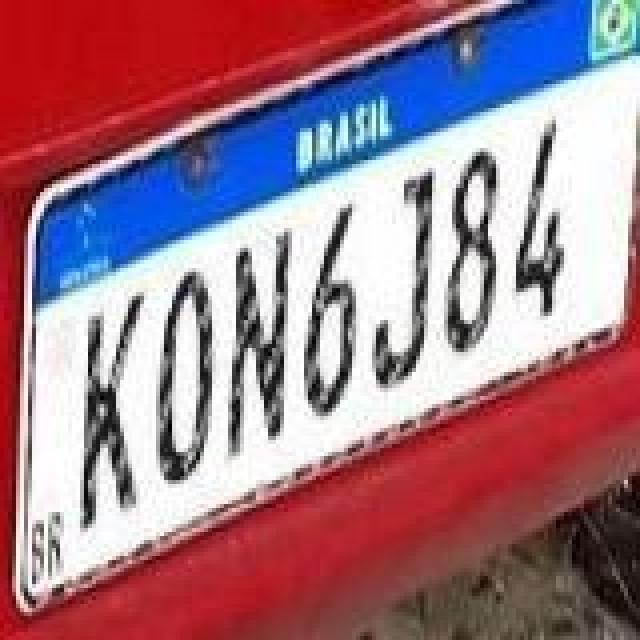4: (512, 114, 568, 318)
6: (300, 198, 356, 418)
8: (444, 144, 500, 352)
J: (368, 166, 432, 394)
K: (78, 290, 146, 534)
N: (222, 226, 290, 462)
O: (154, 264, 214, 488)
